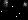person: (4, 2, 10, 15), (24, 2, 28, 12)
